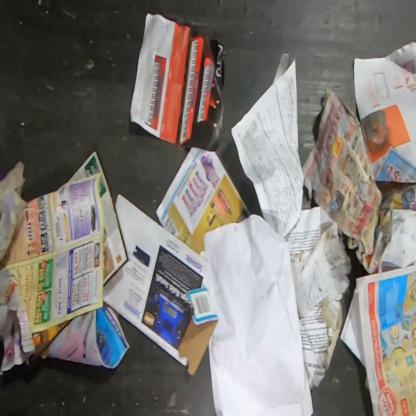cardboard: (177, 286, 219, 376)
